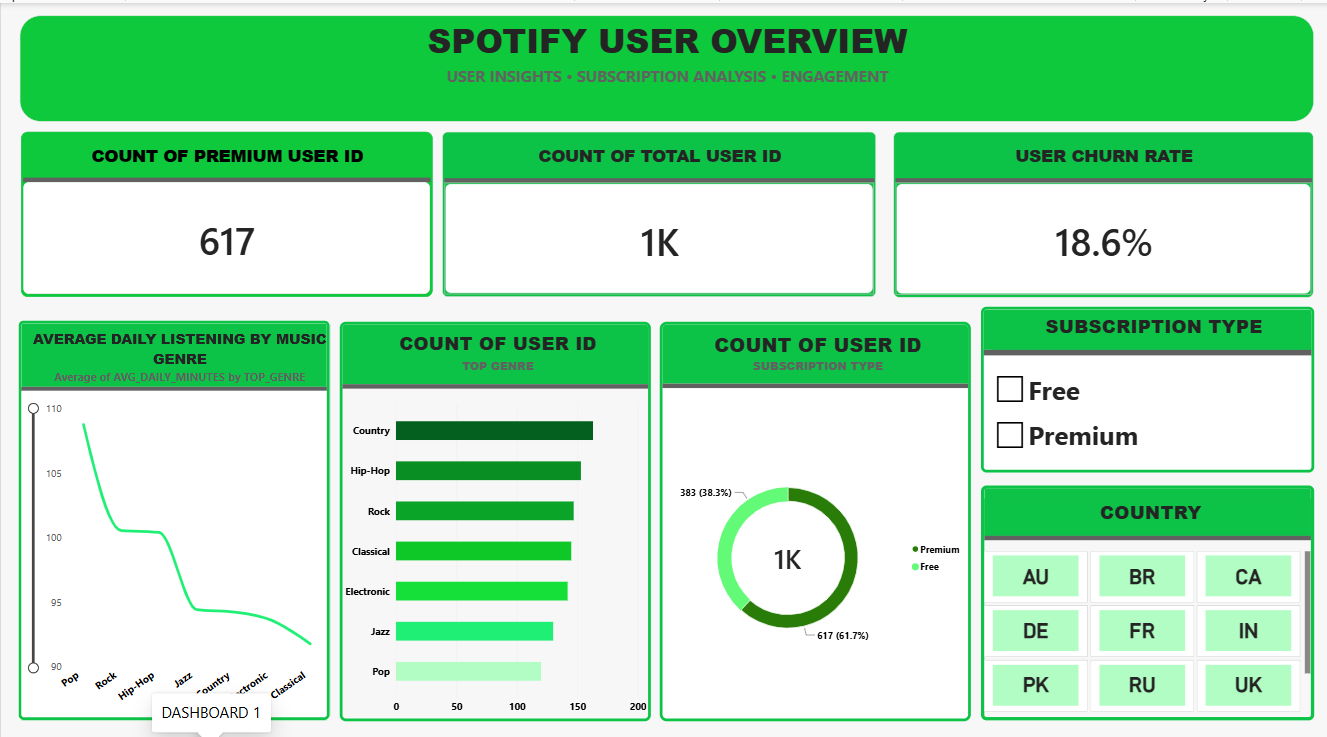

What the dashboard file says about the page in this screenshot:
{"tool":"powerbi","page":{"name":"DASHBOARD 1","canvas":[1920,1080],"ordinal":0},"visuals":[{"type":"cardVisual","title":"COUNT OF PREMIUM USER ID","fields":{"Data":["CountNonNull(spotify_churn_dataset.USER_ID)"]},"box":[28.3,187,595.7,239.1],"z":0},{"type":"donutChart","title":"COUNT OF USER ID","fields":{"Category":["spotify_churn_dataset.SUBSCRIPTION_TYPE"],"Y":["CountNonNull(spotify_churn_dataset.USER_ID)"]},"box":[954,462,450,578],"z":1000},{"type":"clusteredBarChart","title":"COUNT OF USER ID","fields":{"Category":["spotify_churn_dataset.TOP_GENRE"],"Y":["CountNonNull(spotify_churn_dataset.USER_ID)"]},"box":[490,462,450,578],"z":2000},{"type":"textbox","title":"SPOTIFY USER OVERVIEW","box":[26.7,17.8,1873.7,153.5],"z":3000},{"type":"cardVisual","title":"COUNT OF TOTAL USER ID","fields":{"Data":["CountNonNull(spotify_churn_dataset.USER_ID)"]},"box":[639.1,187,628.3,239.1],"z":4000},{"type":"advancedSlicerVisual","fields":{"Values":["spotify_churn_dataset.COUNTRY"]},"box":[1418,698,482,340],"z":5000},{"type":"slicer","title":"SUBSCRIPTION TYPE","fields":{"Values":["spotify_churn_dataset.SUBSCRIPTION_TYPE"]},"box":[1418,440,482,240],"z":6000},{"type":"cardVisual","title":"USER CHURN RATE","fields":{"Data":["spotify_churn_dataset.Churn Rate"]},"box":[1292,186,608,240],"z":7000},{"type":"lineChart","title":"AVERAGE DAILY LISTENING BY MUSIC GENRE","fields":{"Category":["spotify_churn_dataset.TOP_GENRE"],"Y":["Avg(spotify_churn_dataset.AVG_DAILY_MINUTES)"]},"box":[26,460,450,578],"z":8000}]}

Visuals, with their boxes on the page's 1920x1080 design canvas (x1, y1, x2, y2). These are canvas units, not pixel positions in the 1327x737 screenshot, which may show the page scaled, cropped or inside an application window:
"COUNT OF PREMIUM USER ID" cardVisual: box=[28, 187, 624, 426]
"COUNT OF USER ID" donutChart: box=[954, 462, 1404, 1040]
"COUNT OF USER ID" clusteredBarChart: box=[490, 462, 940, 1040]
"SPOTIFY USER OVERVIEW" textbox: box=[27, 18, 1900, 171]
"COUNT OF TOTAL USER ID" cardVisual: box=[639, 187, 1267, 426]
advancedSlicerVisual - spotify_churn_dataset.COUNTRY: box=[1418, 698, 1900, 1038]
"SUBSCRIPTION TYPE" slicer: box=[1418, 440, 1900, 680]
"USER CHURN RATE" cardVisual: box=[1292, 186, 1900, 426]
"AVERAGE DAILY LISTENING BY MUSIC GENRE" lineChart: box=[26, 460, 476, 1038]
